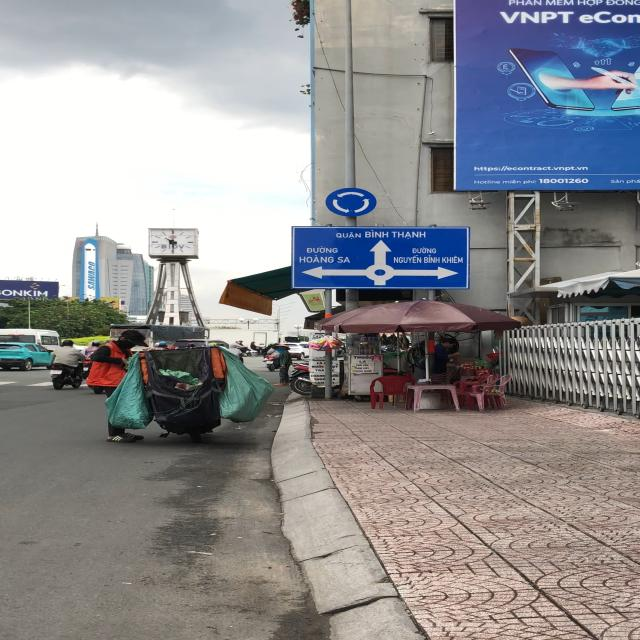Bien bao noi giao nhau chay theo vong xuyen: (324, 183, 381, 219)
